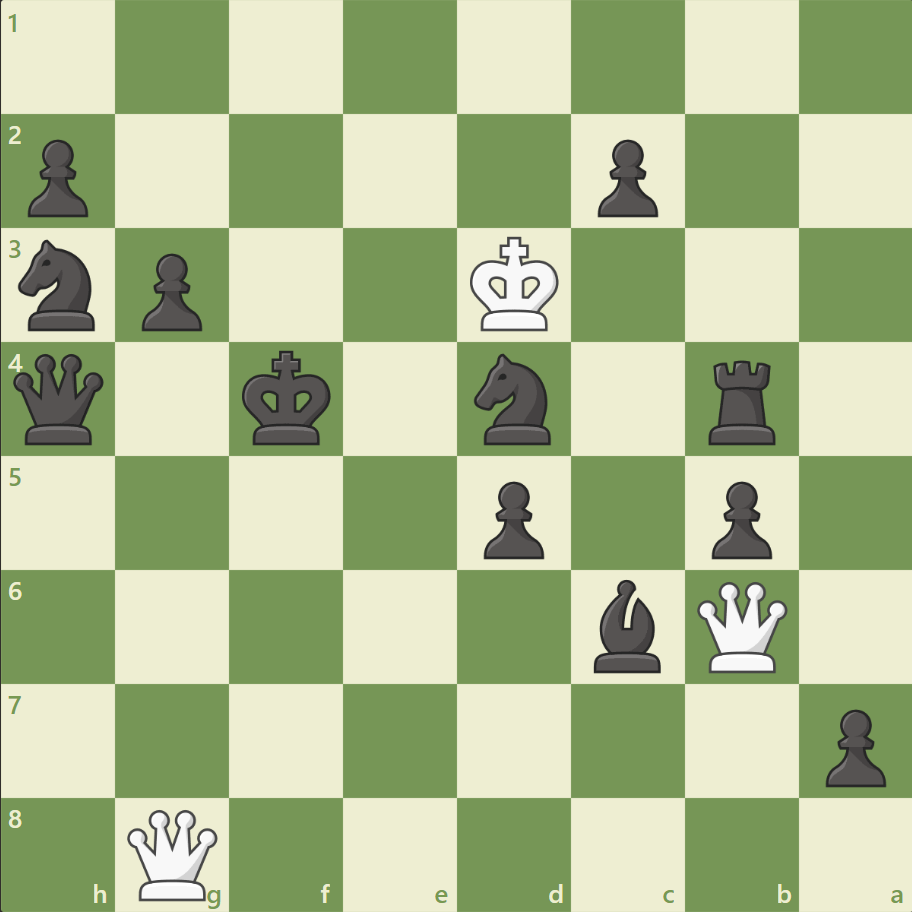K: (465, 231, 565, 339)
Q: (691, 576, 790, 676), (124, 804, 223, 903)
b: (585, 574, 669, 676)
k: (238, 344, 338, 452)
n: (11, 234, 108, 337), (465, 348, 562, 450)
p: (701, 473, 776, 564), (474, 473, 549, 564), (133, 246, 208, 337), (20, 132, 95, 223), (815, 700, 889, 791), (588, 132, 662, 223)
q: (10, 349, 109, 449)
r: (700, 352, 783, 449)
